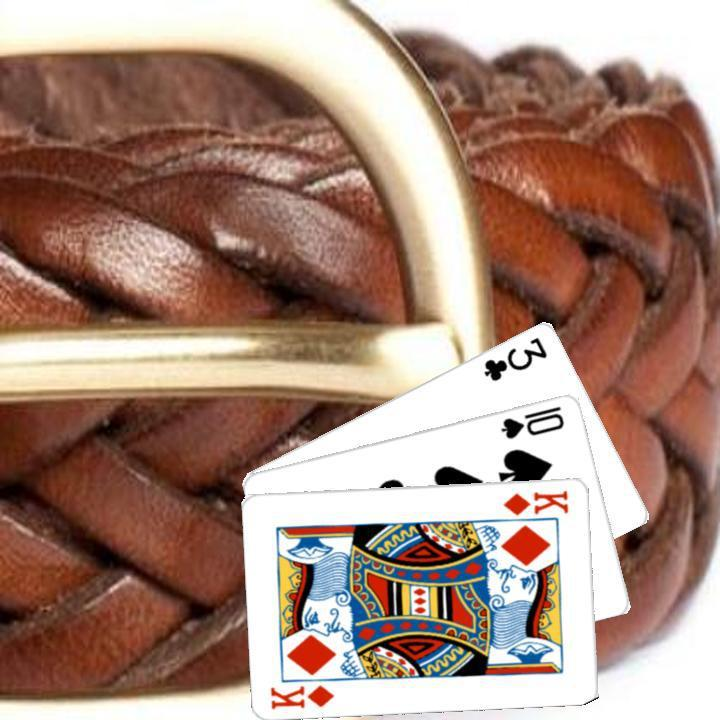10: (496, 401, 567, 441)
3: (479, 332, 550, 383)
K: (499, 486, 571, 517), (267, 680, 336, 711)
